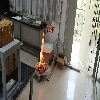fire: (36, 32, 45, 69)
